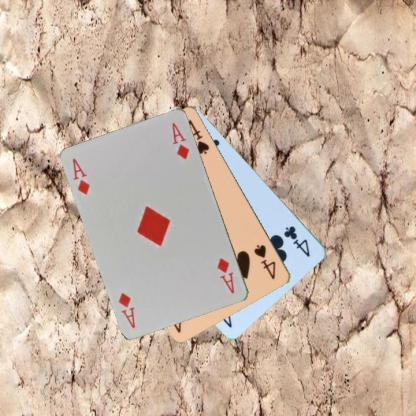4c: (281, 223, 312, 258)
4s: (252, 241, 278, 281)
Ad: (214, 256, 236, 296), (70, 156, 91, 196)
